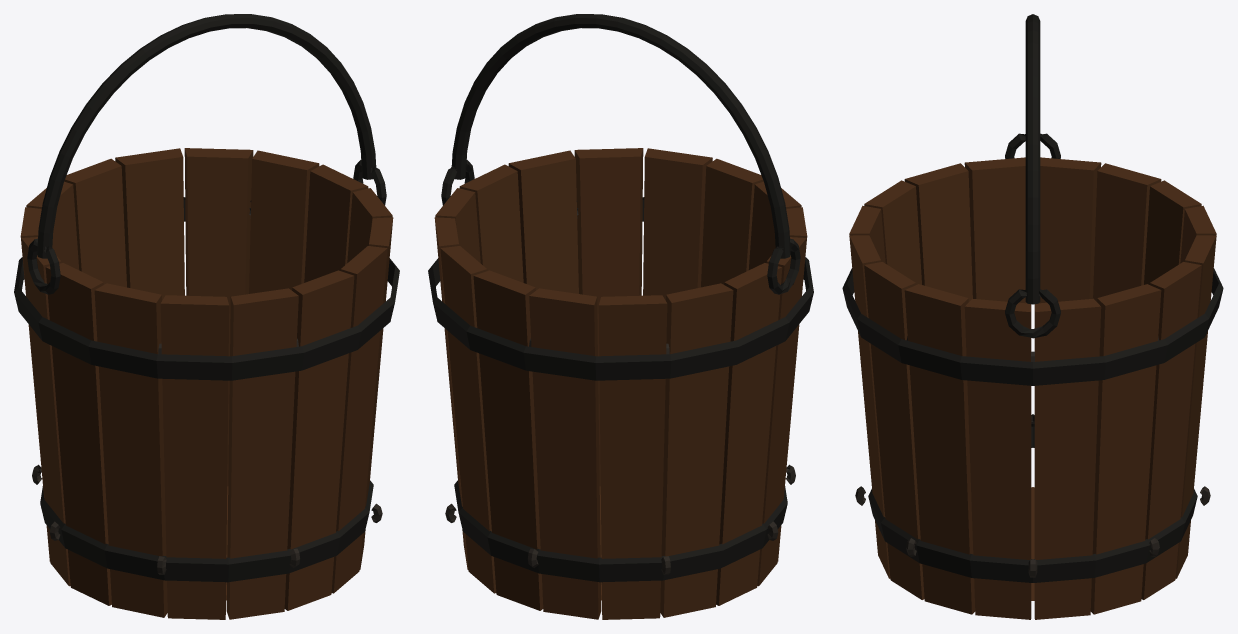
File: bucket_LOD0.obj
The picture shows the model from 3 angles, left to right: view 1: azimuth 30°, elevation 25°; view 2: azimuth 150°, elevation 25°; view 3: azimuth 270°, elevation 25°; orthographic projection. The views are drawn at different scales.
Size of the model in its own units: 0.666 by 1.01 by 0.664.
